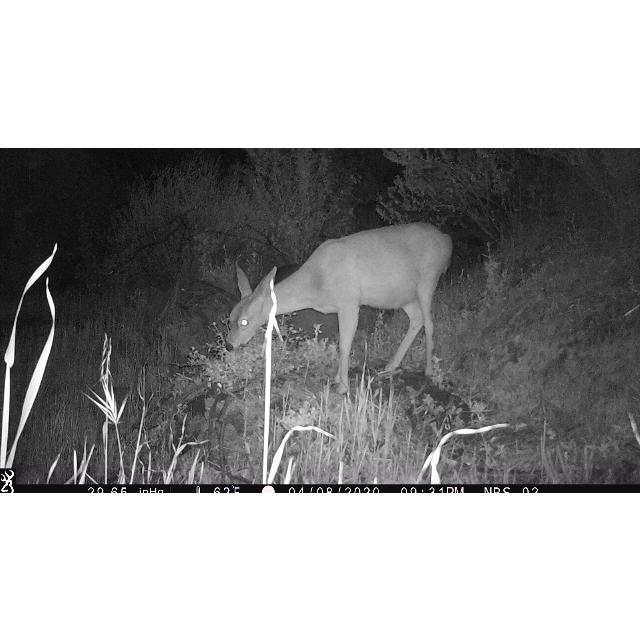animals: (224, 220, 454, 394)
